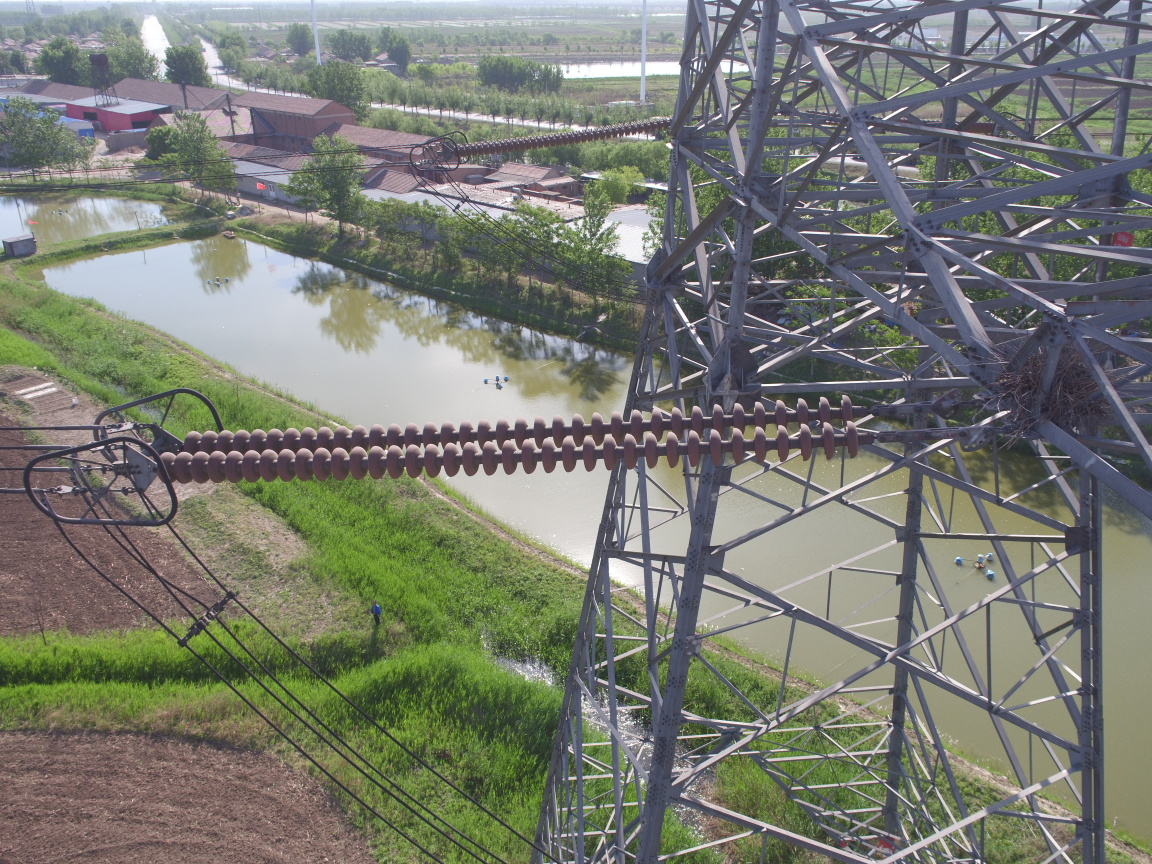insulator: (144, 390, 957, 488)
